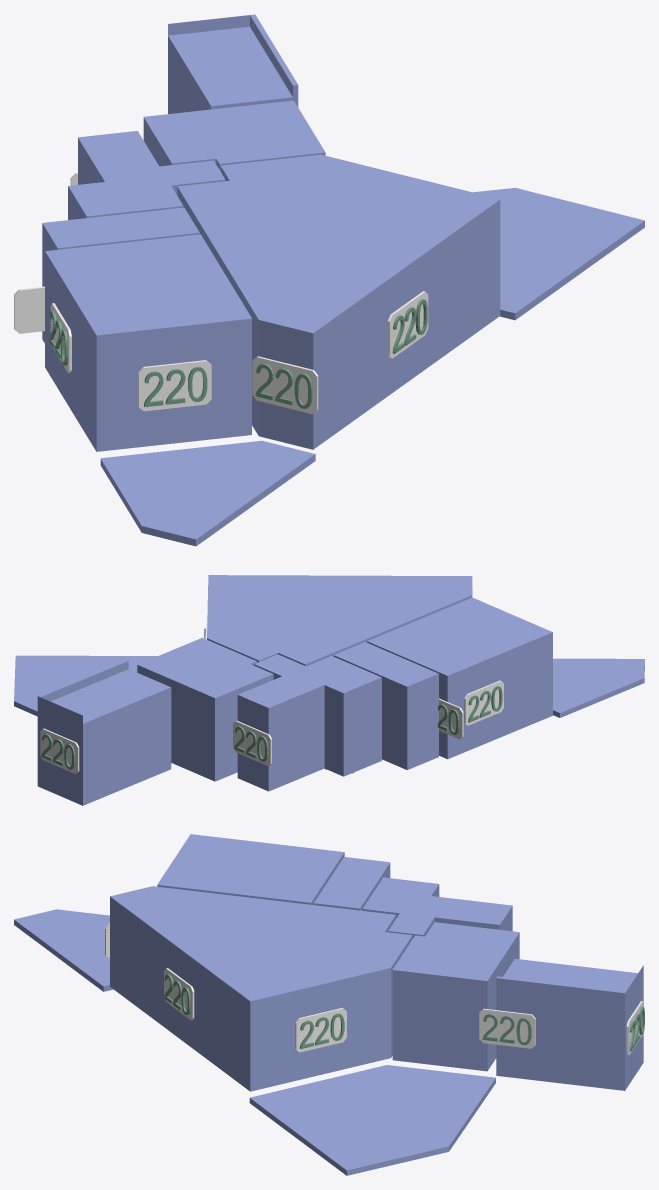
3 views of the same model, one above another, from view 1: azimuth 30°, elevation 25°; view 2: azimuth 150°, elevation 25°; view 3: azimuth 270°, elevation 25° (orthographic). The views are drawn at different scales.
Parts seen in each view (by area): view 1: g_0, g_1, g_6, g_7, g_5, g_4, g_3, g_2, g_31, g_43, g_15, g_19; view 2: g_0, g_1, g_3, g_5, g_4, g_2, g_6, g_7, g_35, g_27, g_23, g_15; view 3: g_0, g_7, g_5, g_4, g_1, g_3, g_6, g_2, g_11, g_39, g_19.
Boxes of the visible parts, x1,y1,x2,y2 form: g_0: (177, 154, 500, 449); g_1: (45, 234, 251, 451); g_6: (100, 440, 315, 546); g_7: (473, 188, 644, 320); g_5: (168, 14, 298, 113); g_4: (143, 100, 325, 171); g_3: (68, 131, 225, 219); g_2: (42, 207, 199, 343); g_31: (138, 360, 211, 411); g_43: (252, 356, 318, 414); g_15: (14, 286, 44, 333); g_19: (387, 291, 428, 358); g_0: (207, 575, 472, 666); g_1: (367, 597, 552, 759); g_3: (237, 654, 381, 791); g_5: (37, 659, 171, 805); g_4: (137, 637, 273, 781); g_2: (333, 642, 438, 770); g_6: (553, 658, 644, 717); g_7: (14, 655, 157, 716); g_35: (40, 728, 79, 773); g_27: (464, 680, 503, 725); g_23: (233, 720, 271, 766); g_15: (439, 698, 463, 739); g_0: (110, 886, 412, 1091); g_7: (249, 1065, 495, 1175); g_5: (496, 958, 643, 1090); g_4: (392, 922, 519, 1071); g_1: (157, 834, 344, 904); g_3: (362, 877, 512, 938); g_6: (14, 909, 113, 991); g_2: (313, 857, 390, 910); g_11: (479, 1008, 535, 1048); g_39: (295, 1008, 346, 1052); g_19: (164, 968, 194, 1020).
Bounding box in the file's own units: 15.48 × 2.85 × 15.8.
